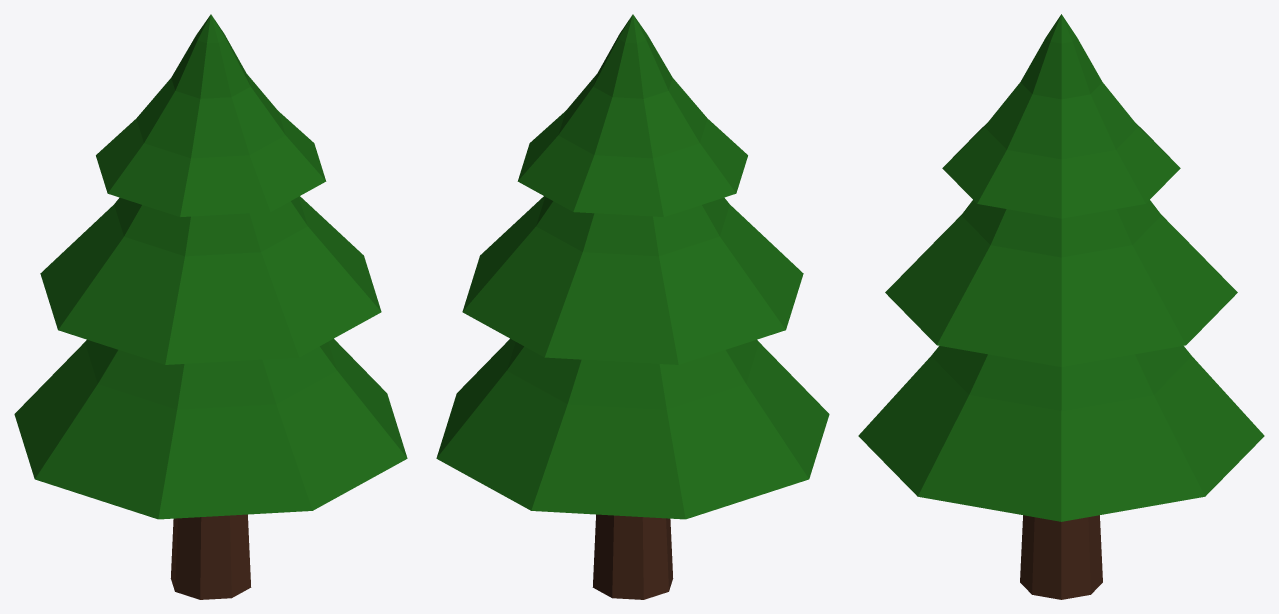
Rendered from Spruce_03.fbx.
3 renders of one model, left to right at view 1: azimuth 30°, elevation 25°; view 2: azimuth 150°, elevation 25°; view 3: azimuth 270°, elevation 25°, orthographic.
Parts seen in each view (by area): view 1: tree2.003; view 2: tree2.003; view 3: tree2.003.
Part boxes in pixels (bbox=[...]): tree2.003: bbox=[14, 14, 407, 599]; tree2.003: bbox=[436, 14, 829, 599]; tree2.003: bbox=[858, 14, 1264, 599].
Size of the model in its own units: 300 by 463 by 300.
